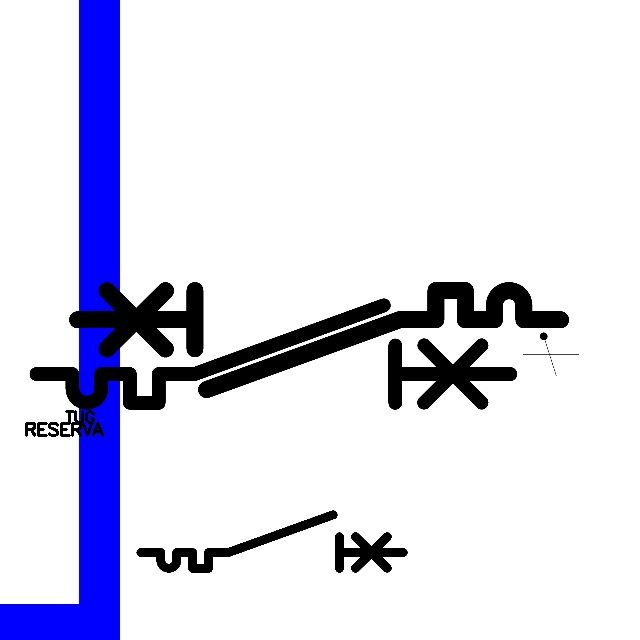interruptor_termomagnetico: (65, 278, 573, 402), (24, 293, 522, 415), (134, 508, 410, 575)
